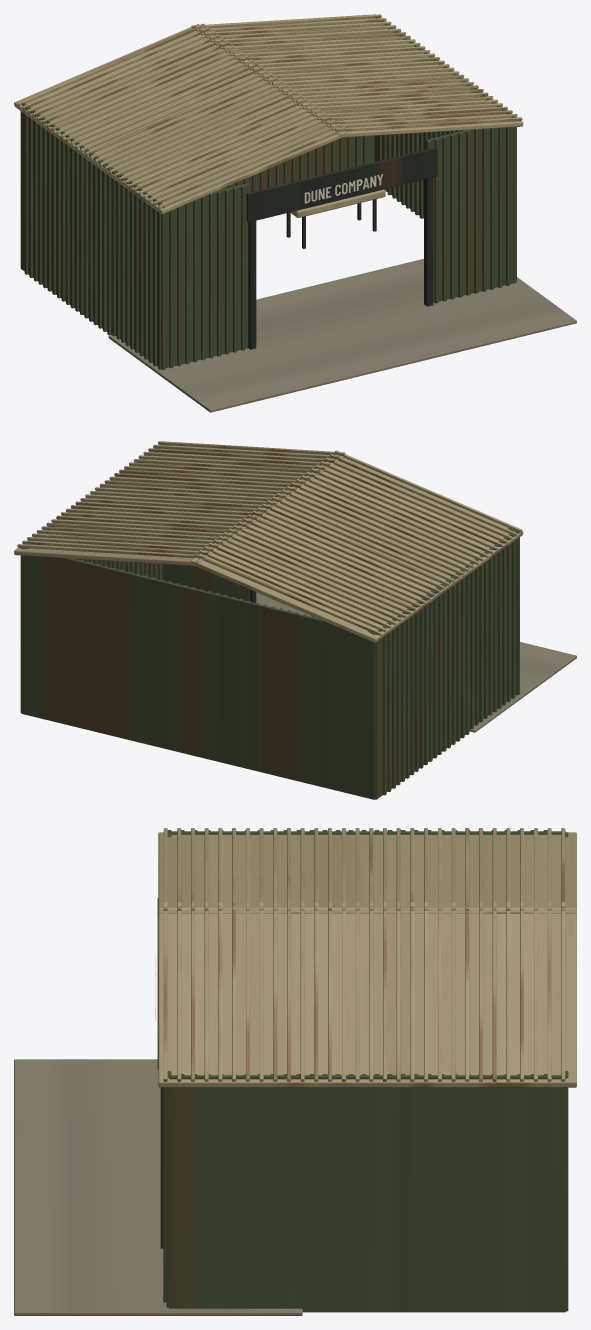
File: workshop-shed.obj
3 renders of one model, top to bottom at view 1: azimuth 30°, elevation 25°; view 2: azimuth 150°, elevation 25°; view 3: azimuth 270°, elevation 25°, orthographic. The views are drawn at different scales.
Parts seen in each view (by area): view 1: workshop-shed; view 2: workshop-shed; view 3: workshop-shed.
Part boxes in pixels (x1=…): workshop-shed: x1=14, y1=14, x2=576, y2=412; workshop-shed: x1=14, y1=441, x2=576, y2=799; workshop-shed: x1=14, y1=828, x2=576, y2=1315.
Size of the model in its own units: 8.3 by 4.35 by 7.8.
1 material, 1 textured.
